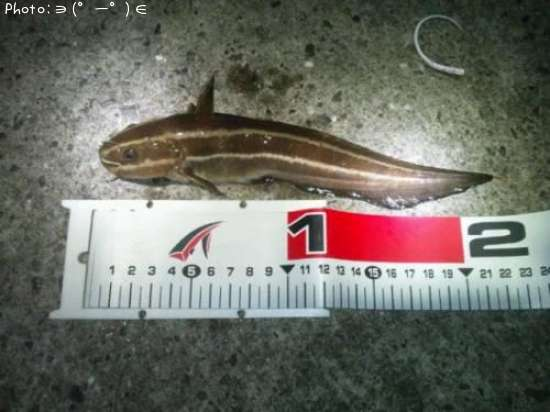gonzui: (95, 99, 486, 202)
